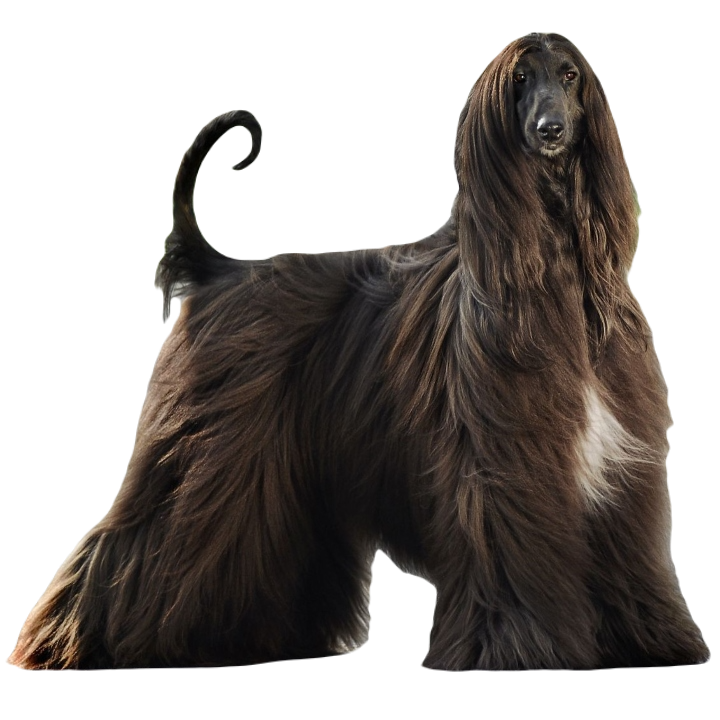Dog: (15, 30, 710, 675)
